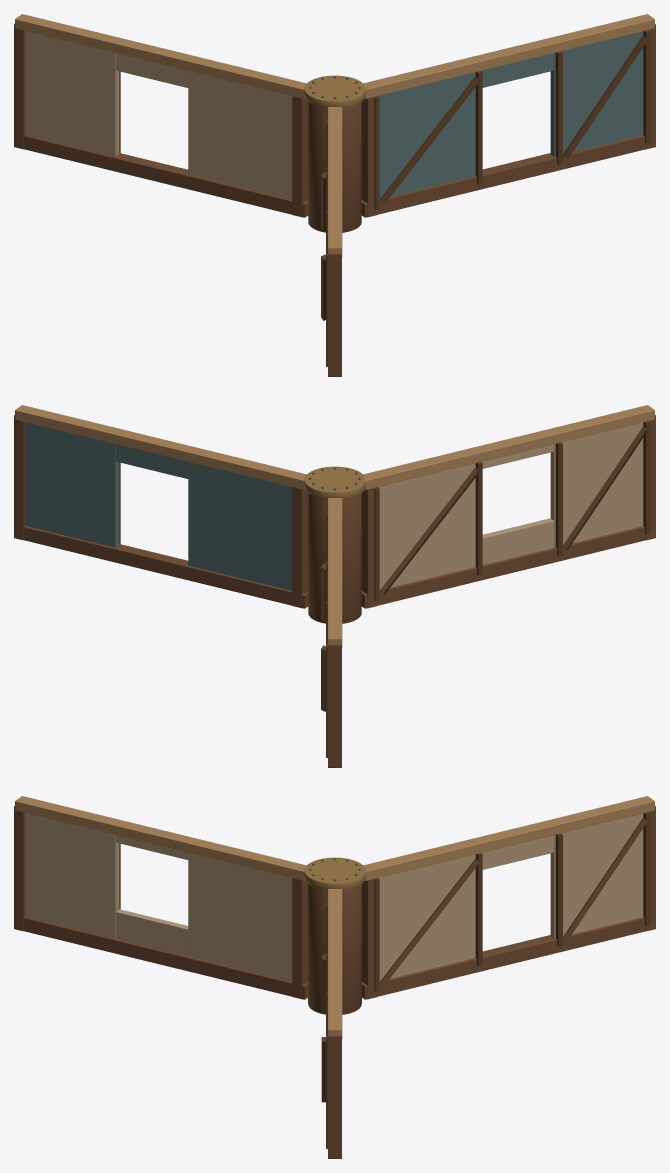
Rendered from SM_CP_ScenicPartitionFrames.fbx.
3 views of the same model, one above another, from view 1: azimuth 30°, elevation 25°; view 2: azimuth 150°, elevation 25°; view 3: azimuth 270°, elevation 25° (orthographic).
Visible parts, largest first — view 1: SM_CP_ScenicPartitionFrames; view 2: SM_CP_ScenicPartitionFrames; view 3: SM_CP_ScenicPartitionFrames.
Boxes of the visible parts, x1,y1,x2,y2 form: SM_CP_ScenicPartitionFrames: [14, 14, 655, 376]; SM_CP_ScenicPartitionFrames: [14, 405, 655, 767]; SM_CP_ScenicPartitionFrames: [14, 796, 655, 1158].
Size of what is drawn, in the model's own units: 1263 by 1458 by 339.
